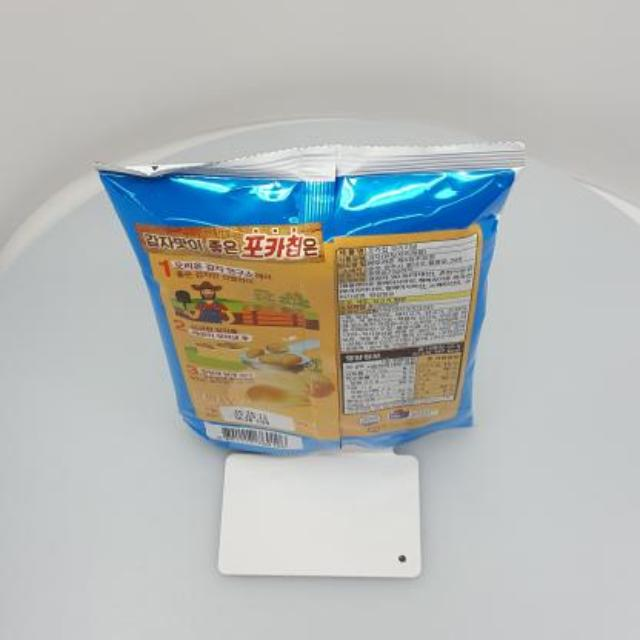snack_bag: (87, 122, 545, 486)
